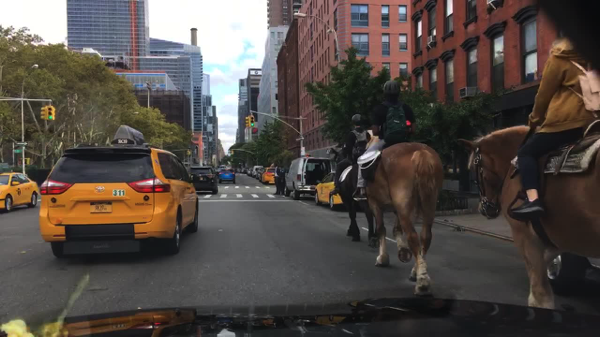bus: (218, 164, 228, 169)
car: (39, 124, 199, 258), (546, 252, 598, 298), (284, 156, 331, 201), (0, 172, 38, 213), (314, 171, 344, 210), (186, 167, 219, 194), (218, 169, 237, 184), (264, 167, 275, 185), (262, 167, 271, 184), (253, 164, 263, 179), (257, 167, 264, 183), (247, 166, 253, 177), (242, 167, 249, 175), (216, 169, 221, 180), (235, 168, 242, 174), (240, 168, 245, 174)
person: (272, 162, 286, 196)
rider: (506, 32, 599, 218), (352, 81, 417, 200), (329, 113, 371, 197)
traffic light: (48, 105, 56, 121), (40, 106, 48, 121), (244, 116, 250, 128), (250, 115, 255, 128), (229, 148, 235, 156), (186, 148, 192, 156)
traffic sign: (15, 141, 30, 147), (14, 148, 25, 155), (294, 136, 304, 143)
